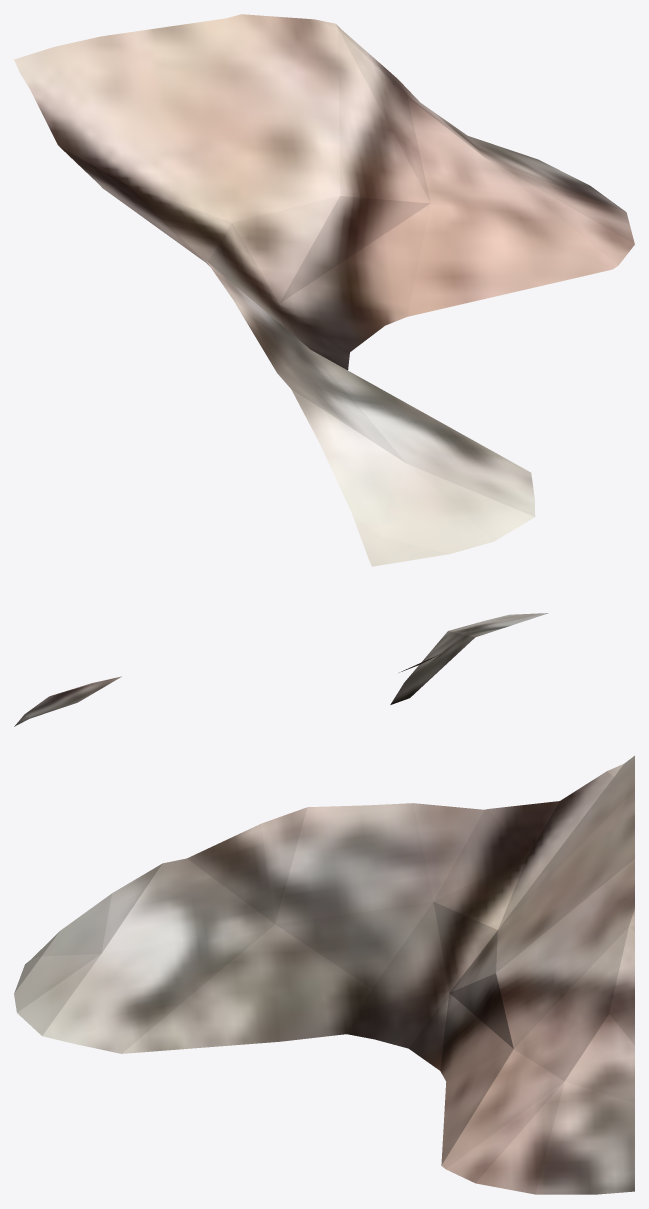
3 views of the same model, one above another, from view 1: azimuth 30°, elevation 25°; view 2: azimuth 150°, elevation 25°; view 3: azimuth 270°, elevation 25° (orthographic). The views are drawn at different scales.
Bounding box in the file's own units: 0.2047 × 0.0875 × 0.2332.
Materials: 1 (1 with a texture image).
